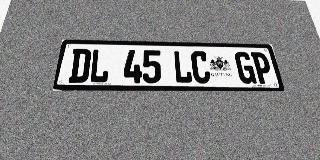4: (123, 50, 142, 83)
5: (143, 50, 161, 83)
C: (190, 51, 211, 84)
D: (68, 49, 92, 83)
G: (234, 52, 257, 84)
L: (88, 49, 110, 83), (173, 51, 193, 83)
P: (250, 52, 274, 84)
